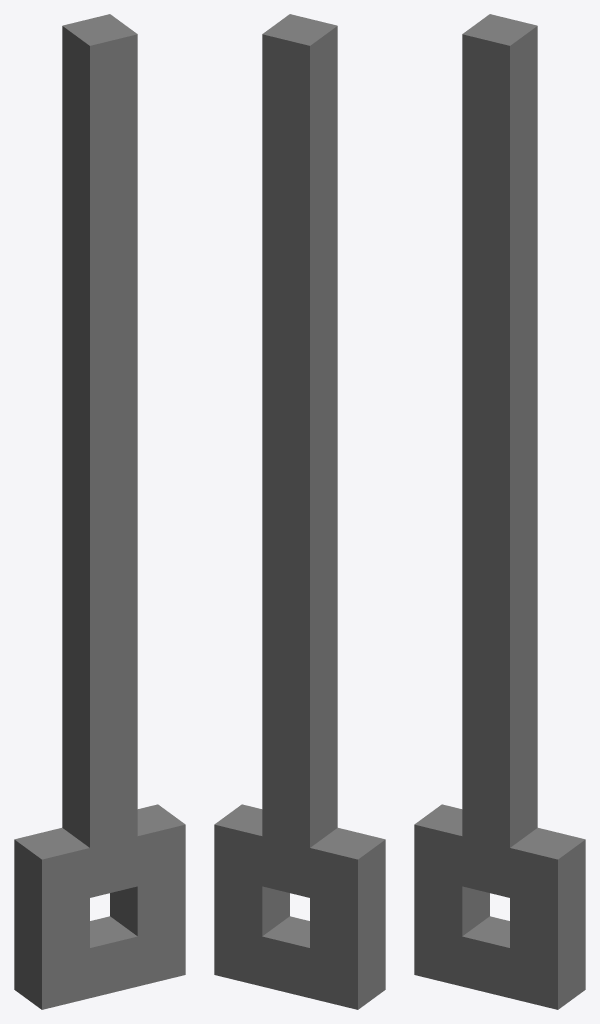
The model's file is zawieszka_do_latarni_kru.dae.
3 views of the same model, side by side, from view 1: azimuth 30°, elevation 25°; view 2: azimuth 150°, elevation 25°; view 3: azimuth 330°, elevation 25° (orthographic).
Parts seen in each view (by area): view 1: Content; view 2: Content; view 3: Content.
Part boxes in pixels (left/top/right/bottom): Content: left=14, top=14, right=185, bottom=1009; Content: left=214, top=14, right=385, bottom=1009; Content: left=414, top=14, right=585, bottom=1009.
Bounding box in the file's own units: 3 × 19 × 1.
1 material, 1 textured.
